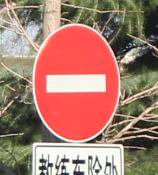no_entry: (32, 23, 121, 142)
